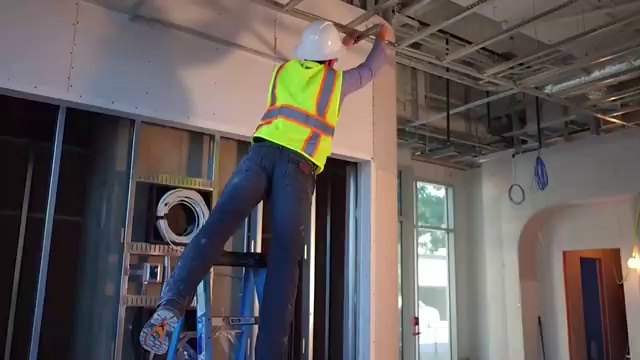helmet: (286, 13, 358, 66)
jacket: (263, 61, 345, 178)
